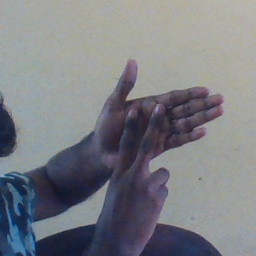N: (89, 55, 240, 213)
